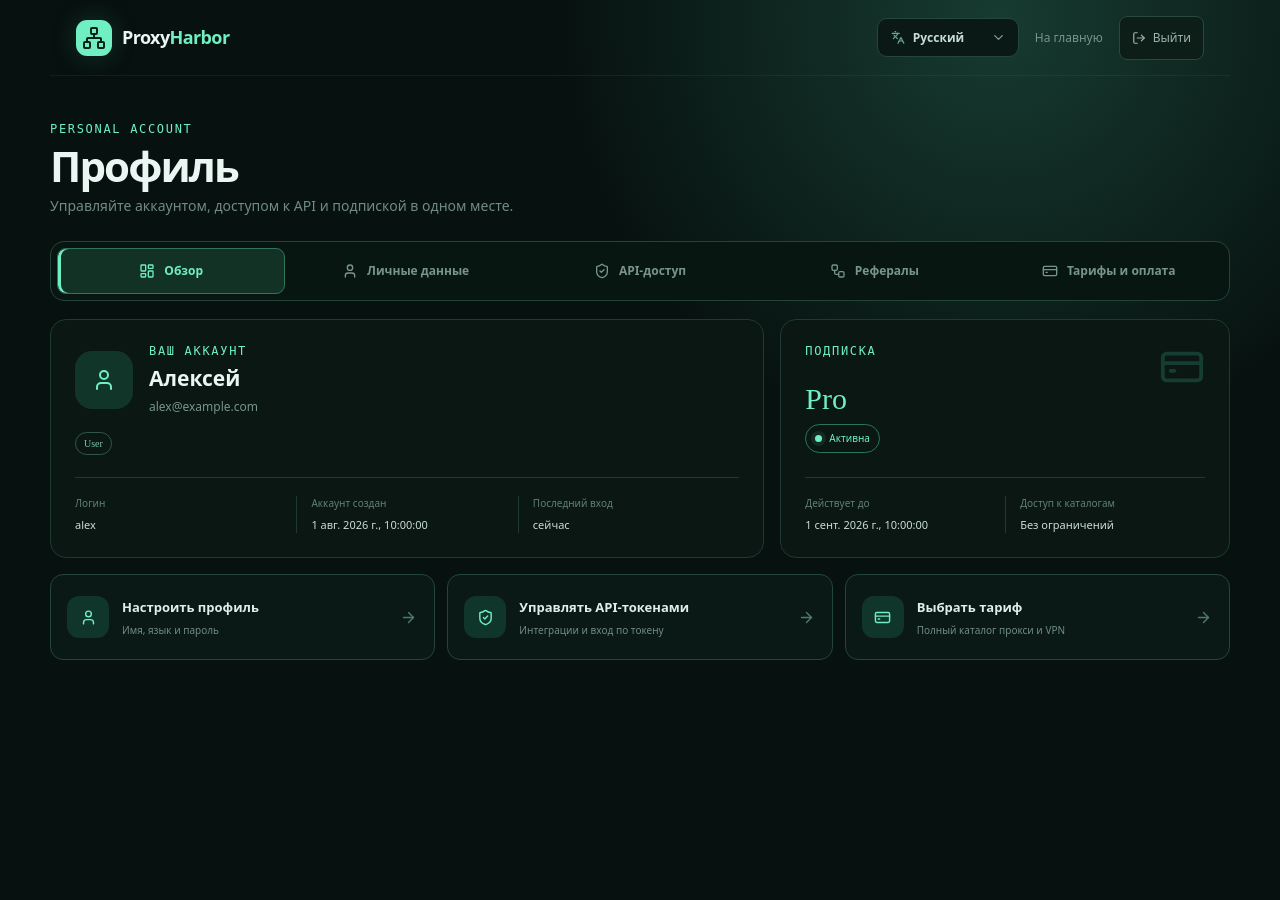
ProxyHarbor UI › organizes the account into focused tabs and sorts plans by duration
expect the heading "Профиль" is shown: met, box [50,137,238,194]
expect the heading "Алексей" is shown: met, box [149,364,240,392]
Click the tab "Личные данные" at point(406, 271), box [291,248,520,294]
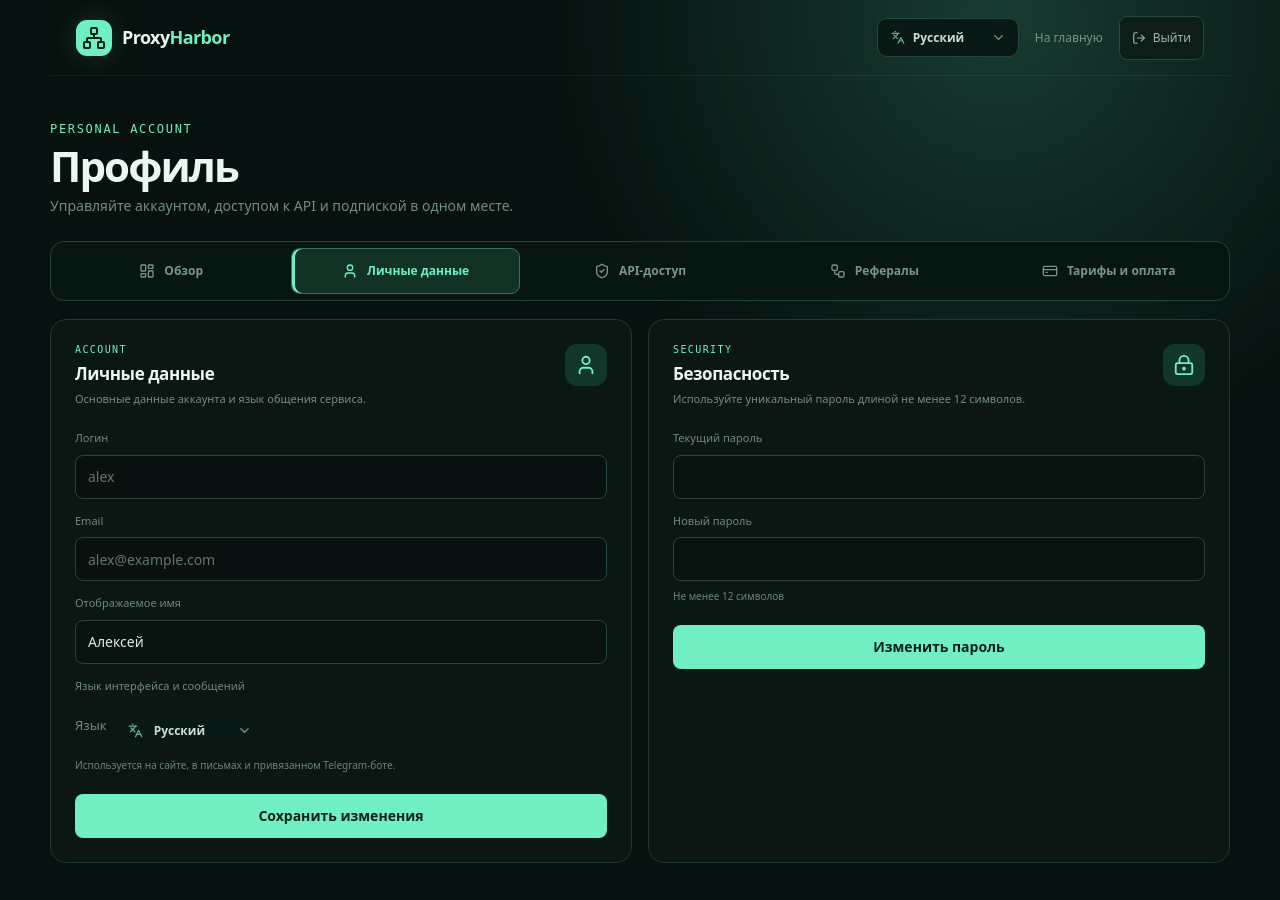
Click the tab "Тарифы и оплата" at point(1109, 271), box [995,248,1223,294]
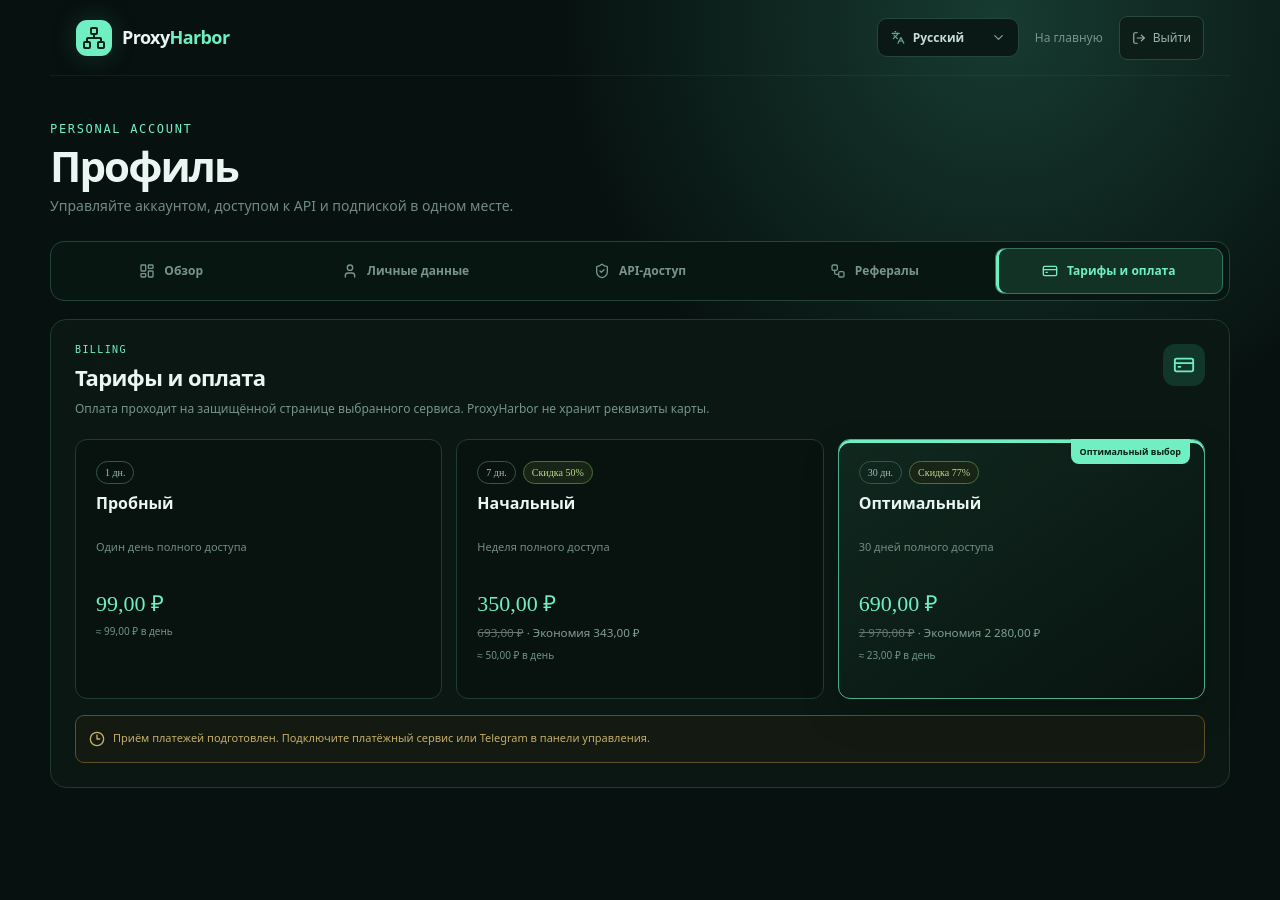
expect the text "Оптимальный выбор" is shown: met, box [1070,439,1190,464]
